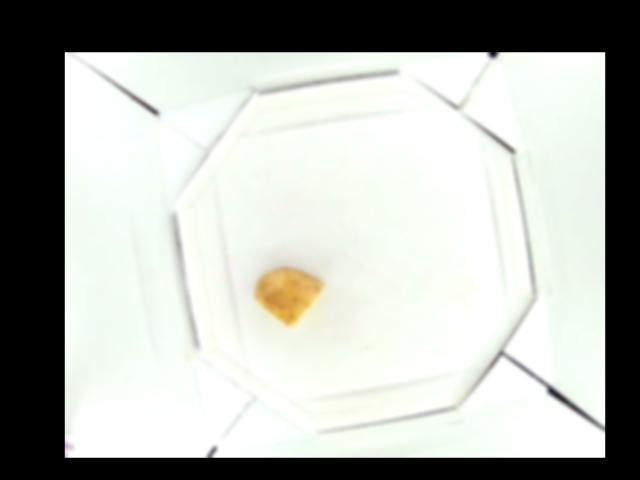Potato: (255, 265, 324, 325)
